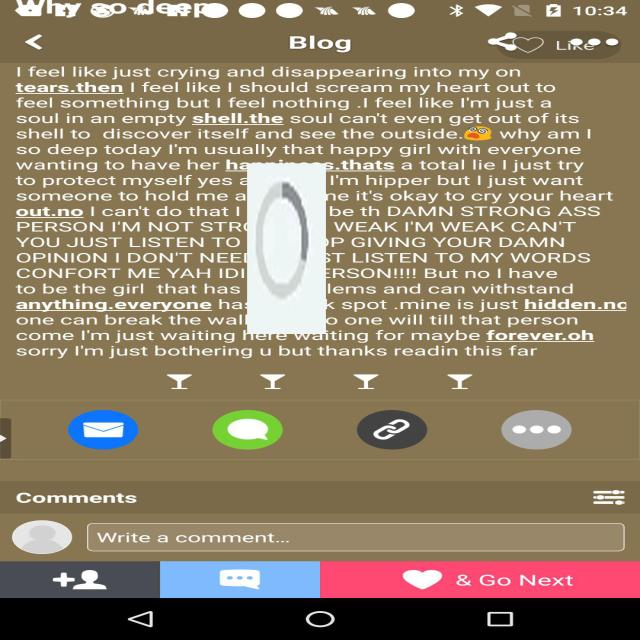misdirection: (247, 163, 326, 334)
